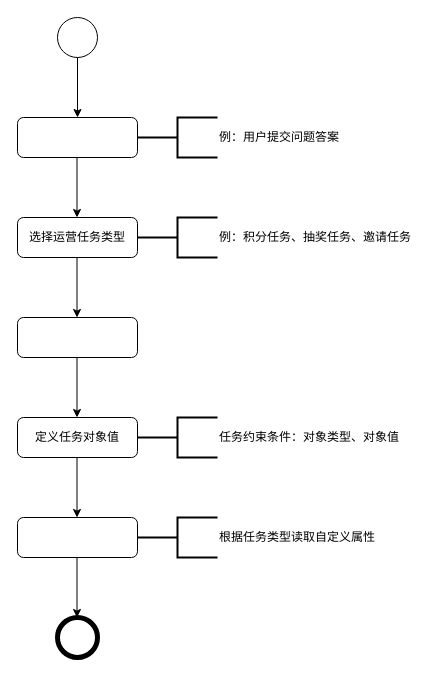
Some shapes in this 429 by 677 pixel diagram are drawn without their labels. Here are the shapes that lost their labels. From the top down, the centre of each, then its label:
At (x=77, y=137): "选择业务行为类型".
At (x=77, y=337): "定义任务周期频率".
At (x=77, y=537): "定义任务属性".
